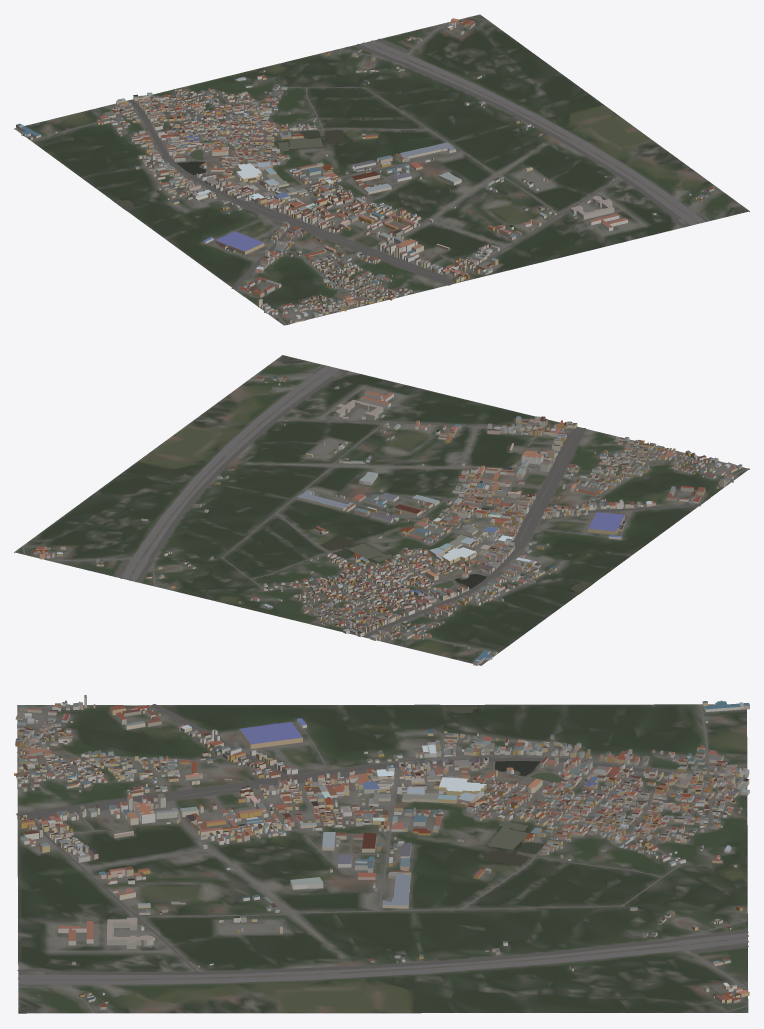
3 renders of one model, top to bottom at view 1: azimuth 30°, elevation 25°; view 2: azimuth 150°, elevation 25°; view 3: azimuth 270°, elevation 25°, orthographic. The views are drawn at different scales.
Visible parts, largest first — view 1: ground, buildings, roads, water; view 2: ground, buildings, roads, water; view 3: ground, buildings, roads, water.
Part boxes in pixels (x1,y1,x2,y2): ground: (14,14,749,325); buildings: (16,18,714,323); roads: (30,17,721,325); water: (114,34,524,324); ground: (14,355,749,665); buildings: (34,376,742,665); roads: (22,364,749,663); water: (72,444,745,592); ground: (17,704,748,1013); buildings: (14,695,749,1009); roads: (16,704,748,1013); water: (17,705,718,981).
Size of the model in its own units: 1410 by 30.31 by 1414.
